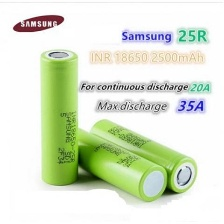battery: (54, 123, 169, 203), (87, 115, 199, 195), (35, 46, 80, 188)
